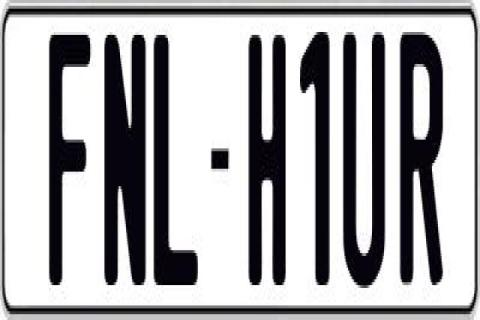0: (300, 23, 332, 276)
F: (47, 35, 93, 285)
H: (248, 26, 291, 288)
L: (152, 35, 200, 303)
N: (102, 32, 144, 291)
R: (398, 27, 442, 297)
U: (340, 32, 388, 300)
